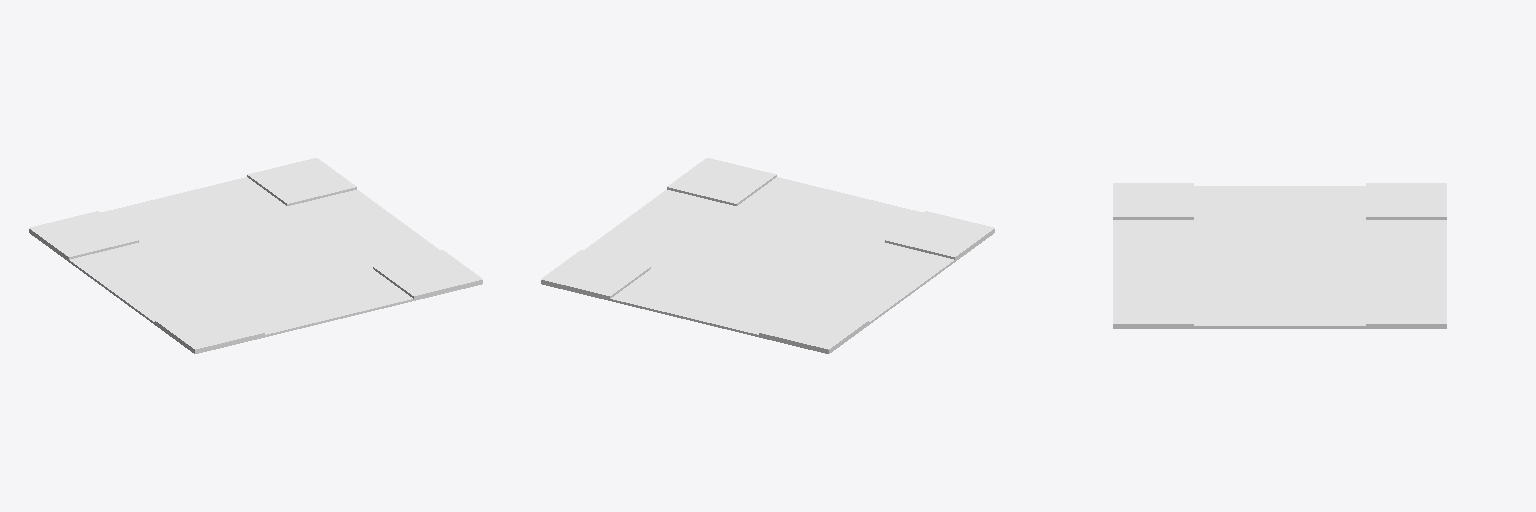
Rendered from GDS2_Floor4-1.obj.
3 renders of one model, left to right at view 1: azimuth 30°, elevation 25°; view 2: azimuth 150°, elevation 25°; view 3: azimuth 270°, elevation 25°, orthographic.
Parts seen in each view (by area): view 1: GDS2_Floor4-1; view 2: GDS2_Floor4-1; view 3: GDS2_Floor4-1.
Part boxes in pixels (x1,y1,x2,y2): GDS2_Floor4-1: (29, 158, 482, 353); GDS2_Floor4-1: (541, 158, 994, 353); GDS2_Floor4-1: (1113, 183, 1446, 328).
Bounding box in the file's own units: 12.8 × 0.2 × 12.8.